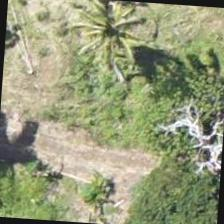Kelapa_Sawit: (54, 0, 150, 84)
